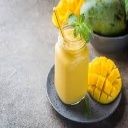mango: (86, 56, 122, 104)
